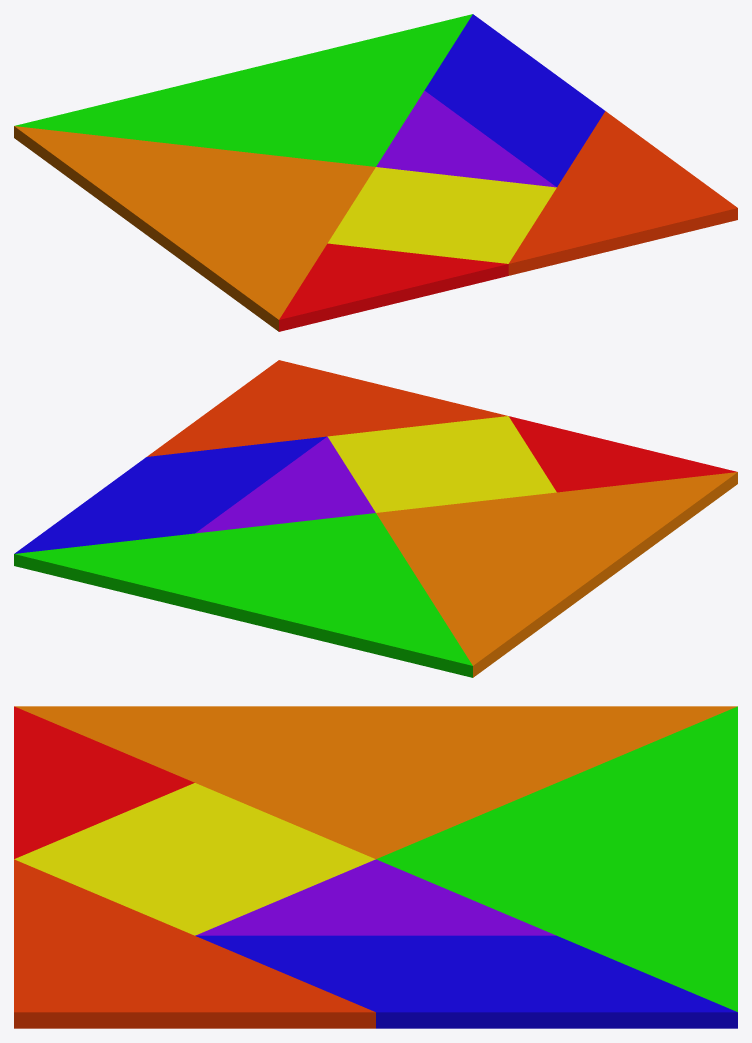
The model's file is tangrams.fbx.
3 views of the same model, one above another, from view 1: azimuth 30°, elevation 25°; view 2: azimuth 150°, elevation 25°; view 3: azimuth 270°, elevation 25° (orthographic). The views are drawn at different scales.
Visible parts, largest first — view 1: BigTriangle2, BigTriangle1, MediumTriangle, Square, Rhombus, SmallTriangle1, SmallTriangle2; view 2: BigTriangle1, BigTriangle2, MediumTriangle, Rhombus, Square, SmallTriangle1, SmallTriangle2; view 3: BigTriangle2, BigTriangle1, Rhombus, MediumTriangle, Square, SmallTriangle2, SmallTriangle1.
Boxes of the visible parts, x1,y1,x2,y2 form: BigTriangle2: (14, 126, 375, 331); BigTriangle1: (15, 14, 472, 166); MediumTriangle: (508, 111, 737, 275); Square: (327, 167, 556, 263); Rhombus: (424, 14, 605, 186); SmallTriangle1: (279, 243, 508, 331); SmallTriangle2: (376, 90, 556, 187); BigTriangle1: (14, 513, 472, 677); BigTriangle2: (376, 472, 737, 677); MediumTriangle: (147, 360, 507, 456); Rhombus: (14, 436, 326, 553); Square: (327, 416, 556, 512); SmallTriangle1: (508, 416, 736, 492); SmallTriangle2: (195, 436, 375, 533); BigTriangle2: (14, 706, 737, 858); BigTriangle1: (376, 706, 737, 1011); Rhombus: (195, 935, 737, 1028); MediumTriangle: (14, 859, 375, 1028); Square: (14, 783, 375, 935); SmallTriangle2: (196, 859, 555, 935); SmallTriangle1: (14, 706, 194, 858).
Size of the model in its own units: 800 by 20 by 800.
